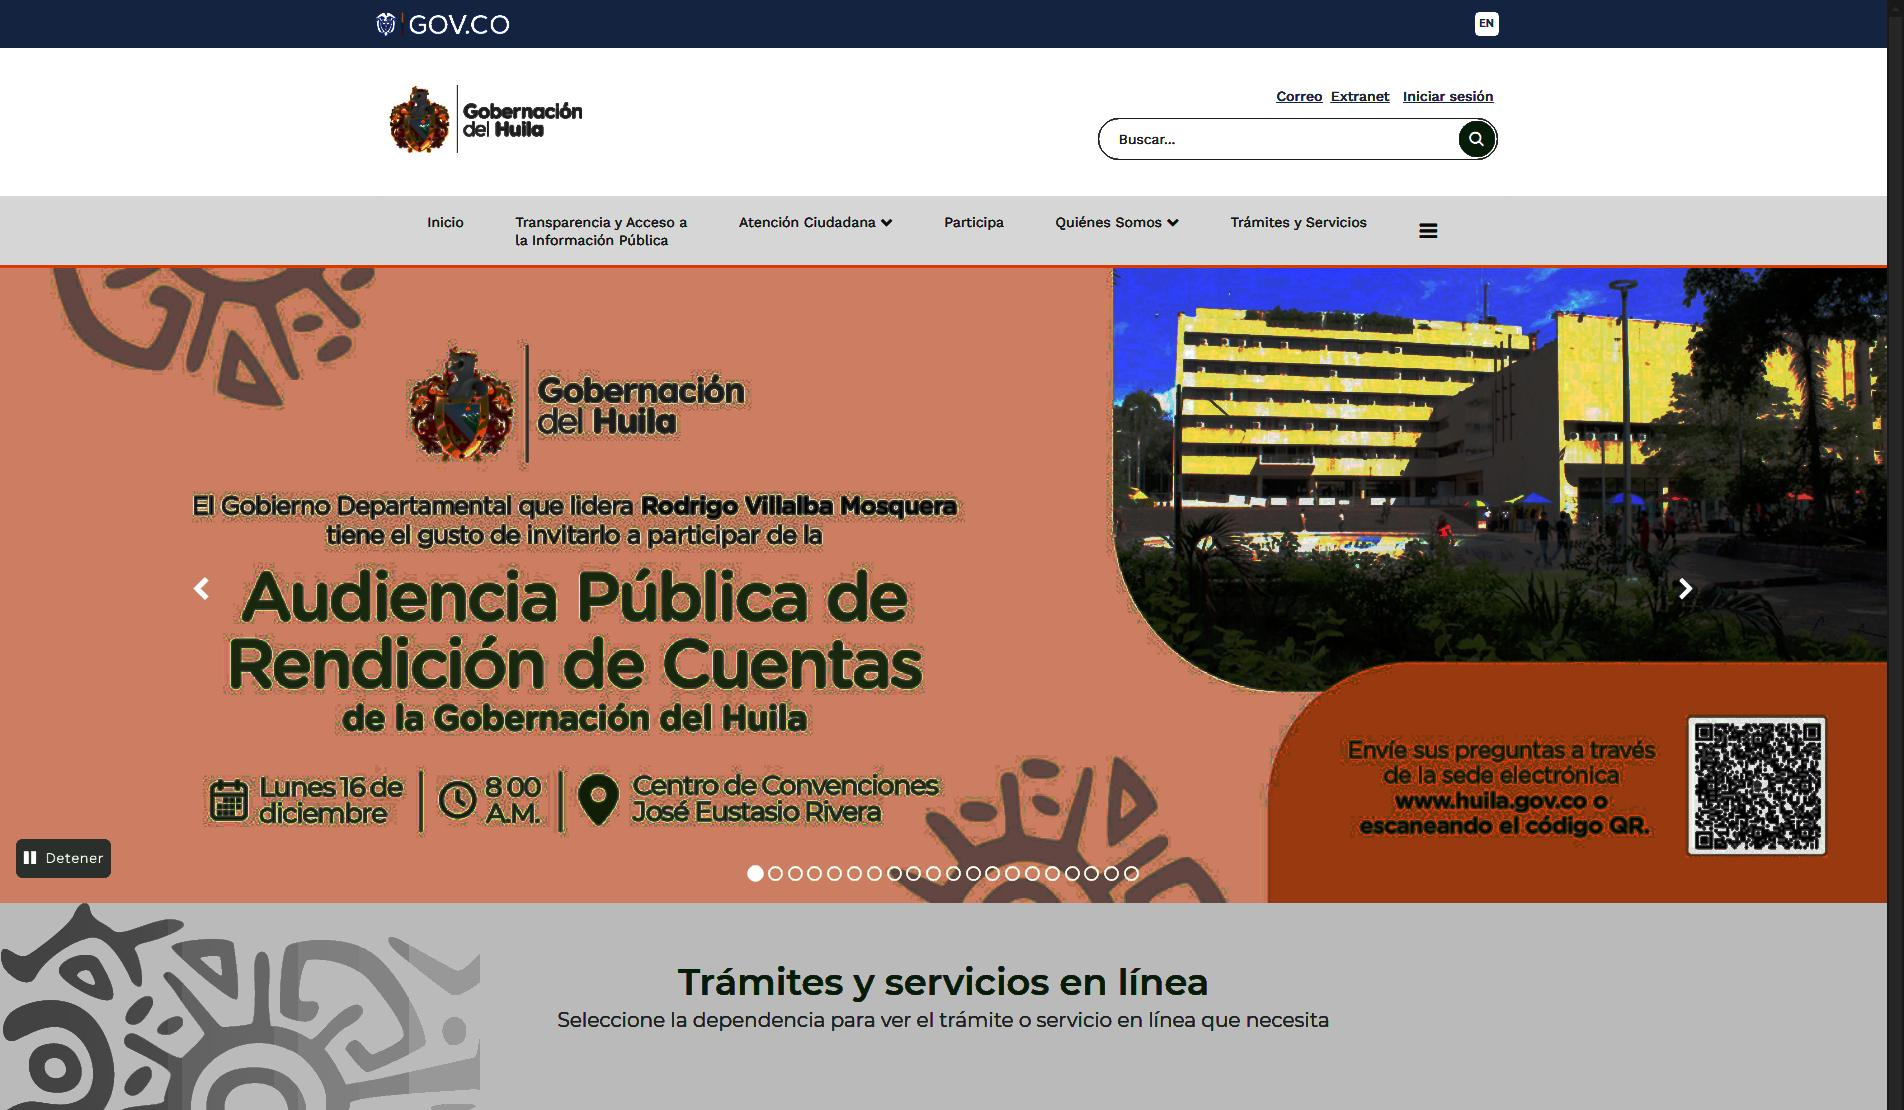banner principal: (0, 255, 1889, 909)
barra govco: (365, 2, 1502, 53)
btn atencion ciudadano: (736, 213, 897, 235)
btn idiomas: (1476, 10, 1500, 40)
btn inicio: (422, 206, 469, 235)
btn inicio sesion: (1400, 88, 1499, 108)
btn participa: (944, 212, 1008, 233)
btn quienes somos: (1053, 213, 1181, 233)
btn tramites: (673, 962, 1217, 1007), (1227, 212, 1372, 233)
btn transpariencia: (511, 207, 691, 248)
logogovco: (369, 9, 513, 41)
menu principal: (417, 189, 1444, 252)
